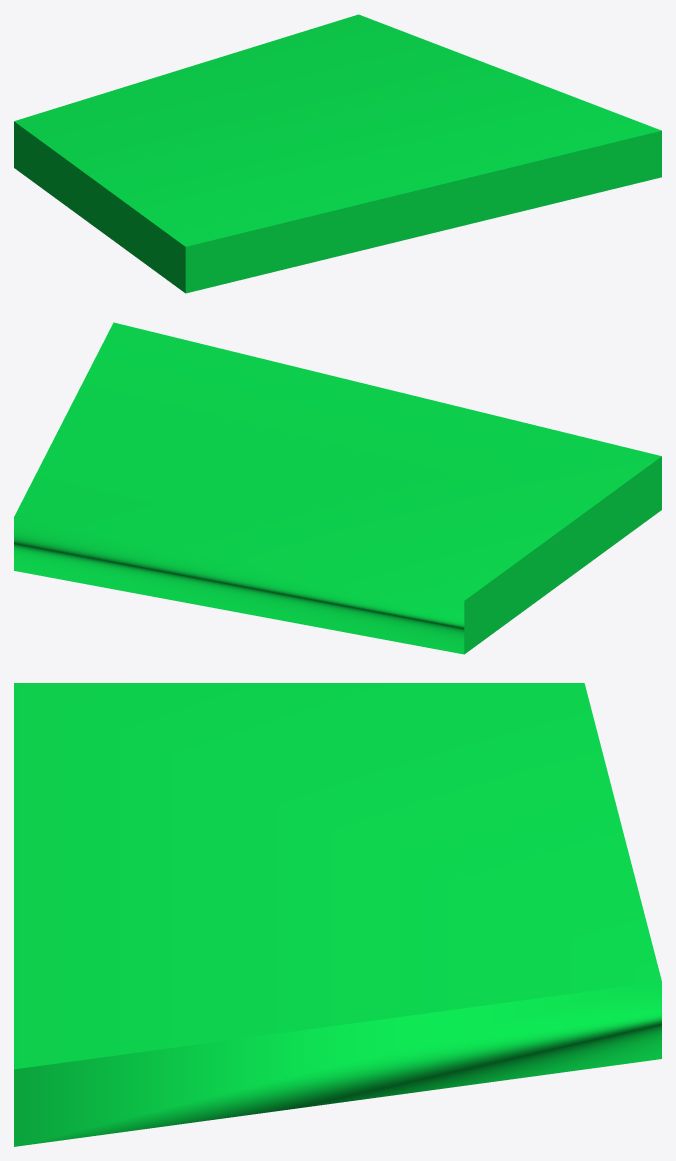
The model's file is Floor_03_Collider.fbx.
3 views of the same model, one above another, from view 1: azimuth 30°, elevation 25°; view 2: azimuth 150°, elevation 25°; view 3: azimuth 270°, elevation 25° (orthographic). The views are drawn at different scales.
Visible parts, largest first — view 1: Floor_03_Collider; view 2: Floor_03_Collider; view 3: Floor_03_Collider.
Part boxes in pixels (bbox=[...]): Floor_03_Collider: bbox=[14, 14, 661, 293]; Floor_03_Collider: bbox=[14, 322, 661, 654]; Floor_03_Collider: bbox=[14, 683, 661, 1146].
Size of the model in its own units: 1152 by 108 by 816.
